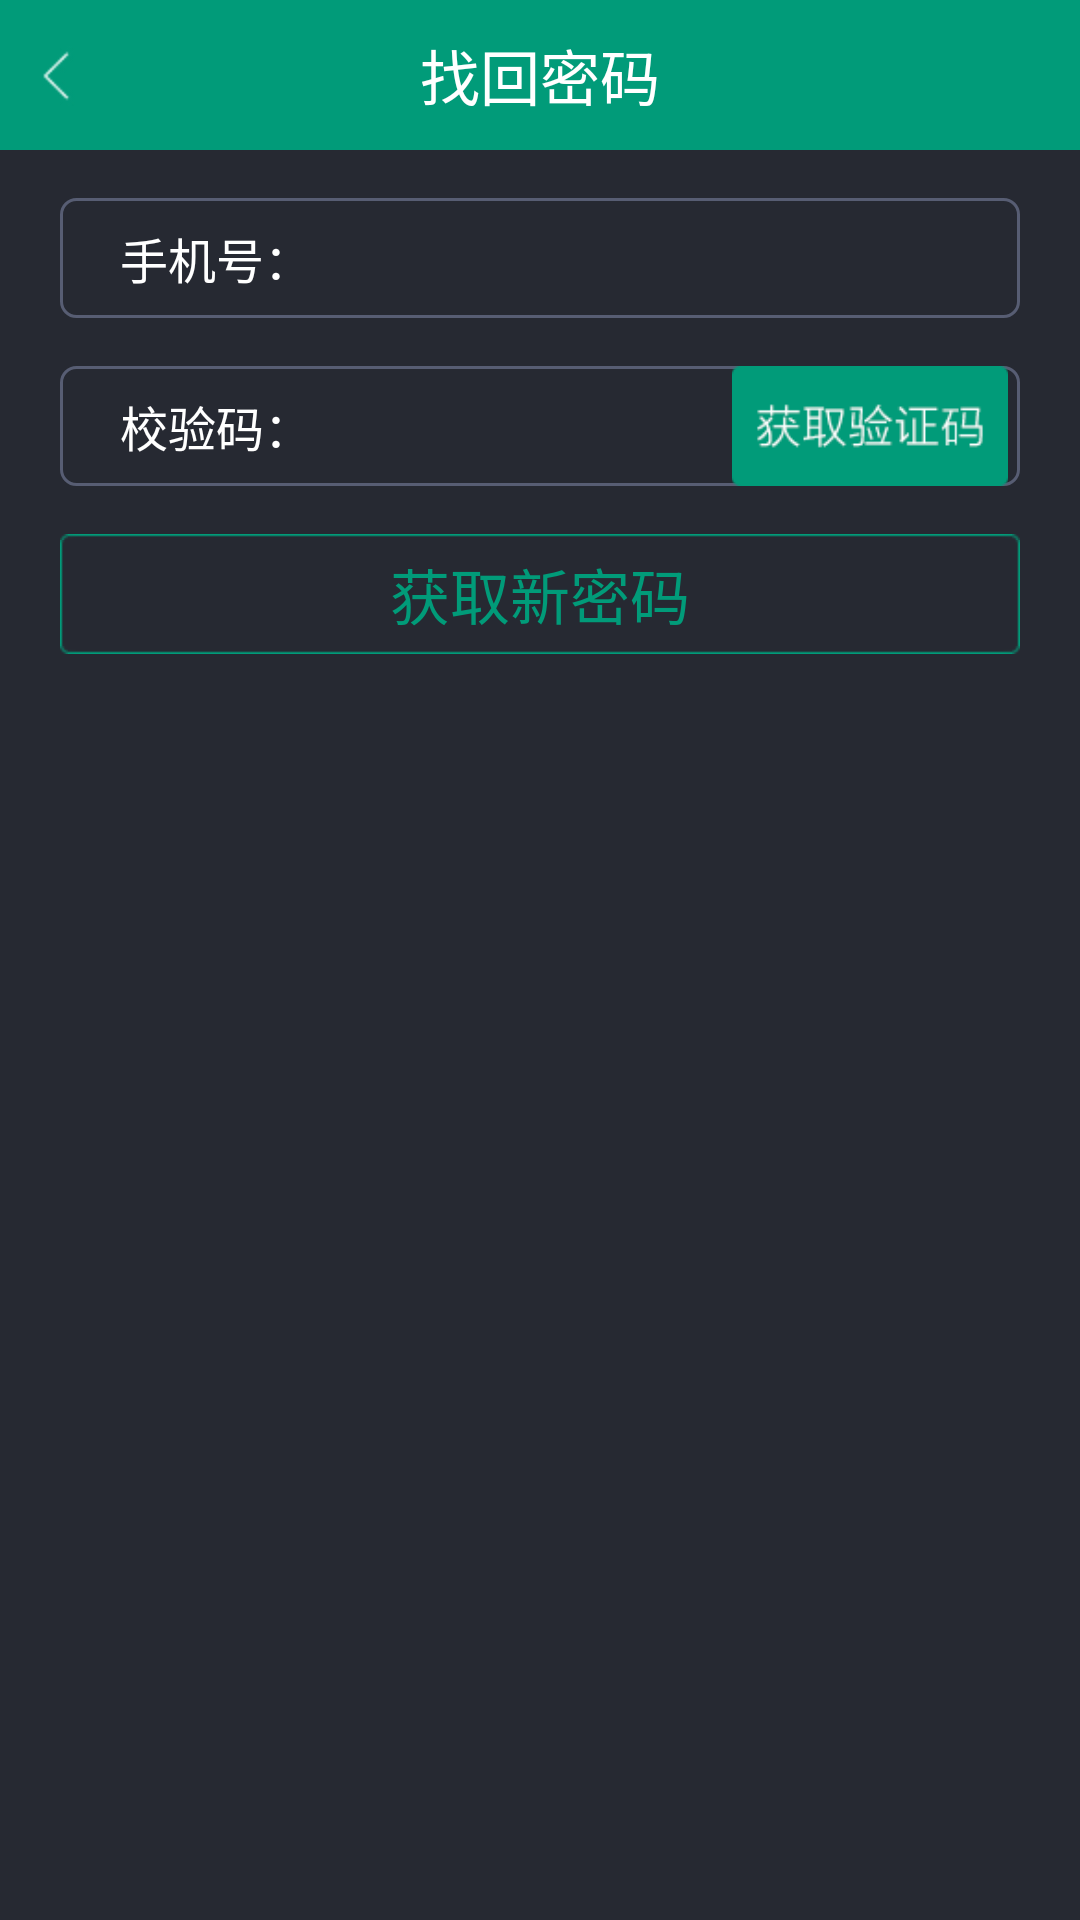

Named icons in this screenshot (1080×1920) and their bounding boxes, (x1, y1, x2, y2):
back: (43, 52, 69, 100)
